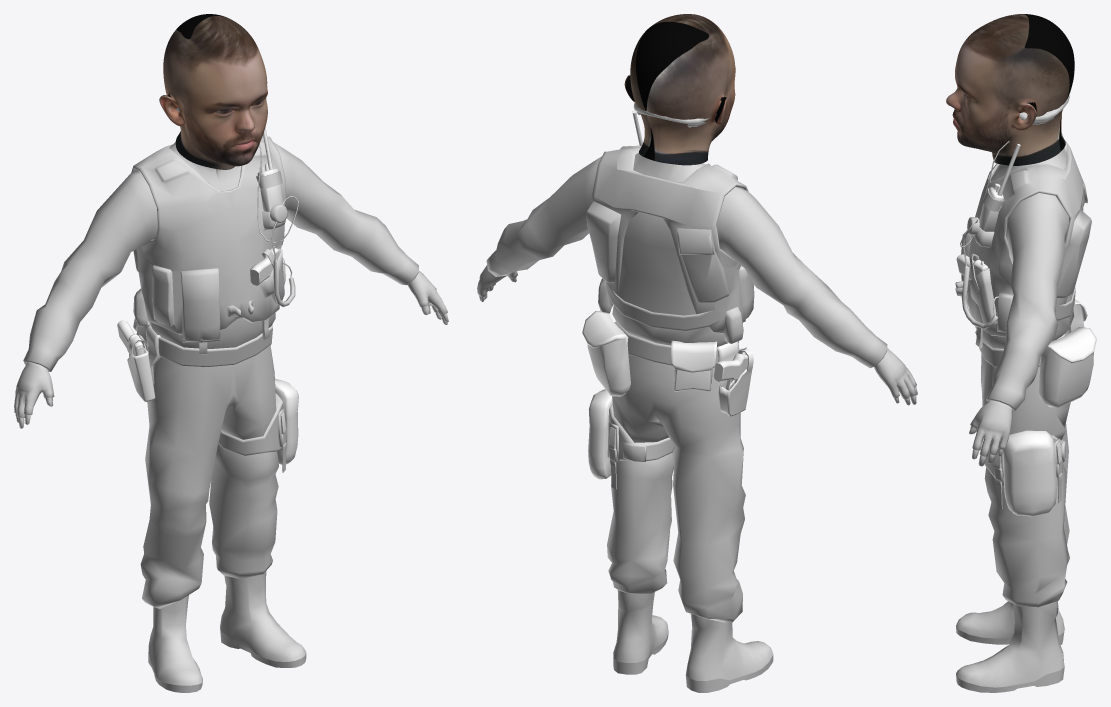
Rendered from police.glb.
3 views of the same model, side by side, from view 1: azimuth 30°, elevation 25°; view 2: azimuth 150°, elevation 25°; view 3: azimuth 270°, elevation 25° (orthographic).
Parts seen in each view (by area): view 1: Poolice, FaceBuilderHead; view 2: Poolice, FaceBuilderHead; view 3: Poolice, FaceBuilderHead.
Part boxes in pixels (x1,y1,x2,y2): Poolice: (14, 107, 448, 692); FaceBuilderHead: (159, 14, 267, 169); Poolice: (477, 101, 917, 692); FaceBuilderHead: (624, 14, 735, 165); Poolice: (955, 95, 1096, 692); FaceBuilderHead: (946, 14, 1074, 165).
Bounding box in the file's own units: 14.85 × 21.17 × 4.51.
7 materials, 1 textured.
